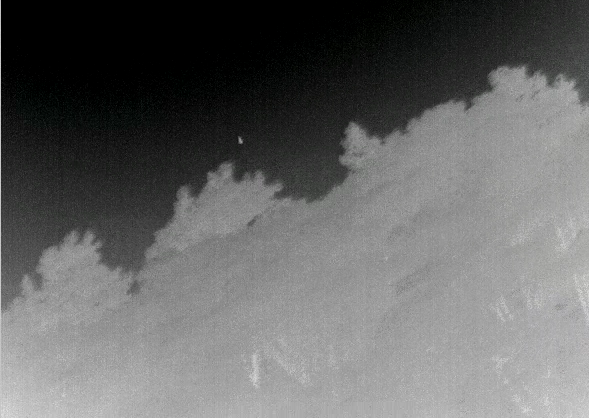dim target: (235, 134, 244, 145)
